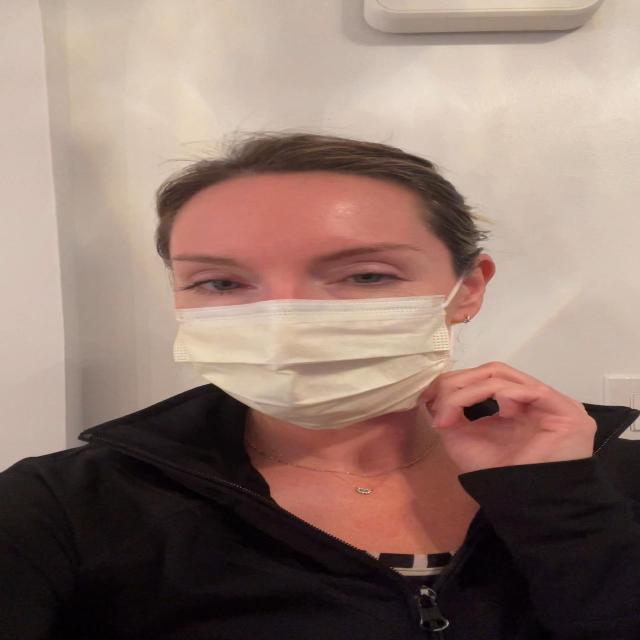Mask: (140, 154, 456, 422)
